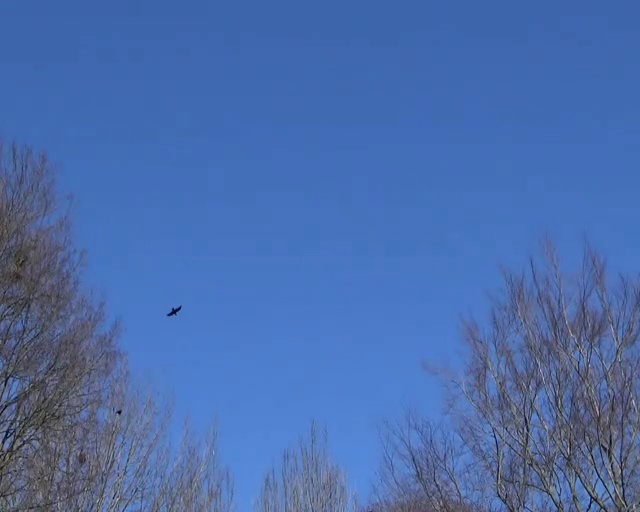BIRD: (167, 305, 182, 316)
